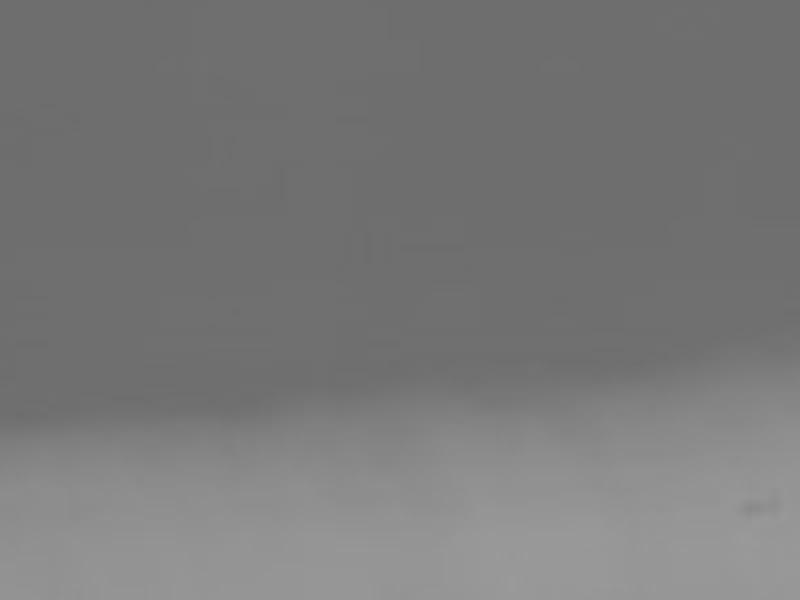defect: (739, 498, 765, 518)
